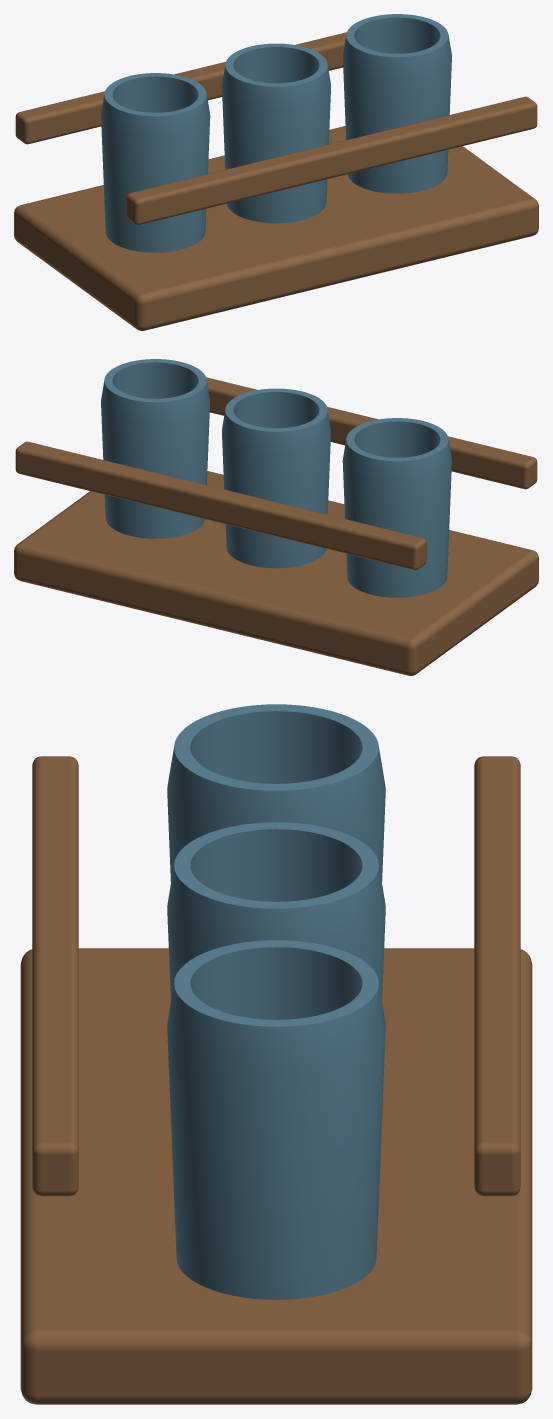
File: fantasy-cartographers-map-printing-guild-colour-wash-j-28d48dc2__32262.glb
3 renders of one model, top to bottom at view 1: azimuth 30°, elevation 25°; view 2: azimuth 150°, elevation 25°; view 3: azimuth 270°, elevation 25°, orthographic. The views are drawn at different scales.
Parts seen in each view (by area): view 1: colour-wash-jar-holder; view 2: colour-wash-jar-holder; view 3: colour-wash-jar-holder.
Boxes of the visible parts, bbox=[...] form: colour-wash-jar-holder: bbox=[14, 14, 538, 330]; colour-wash-jar-holder: bbox=[14, 359, 538, 675]; colour-wash-jar-holder: bbox=[20, 704, 532, 1404].
Size of the model in its own units: 0.4 by 0.165 by 0.22.
